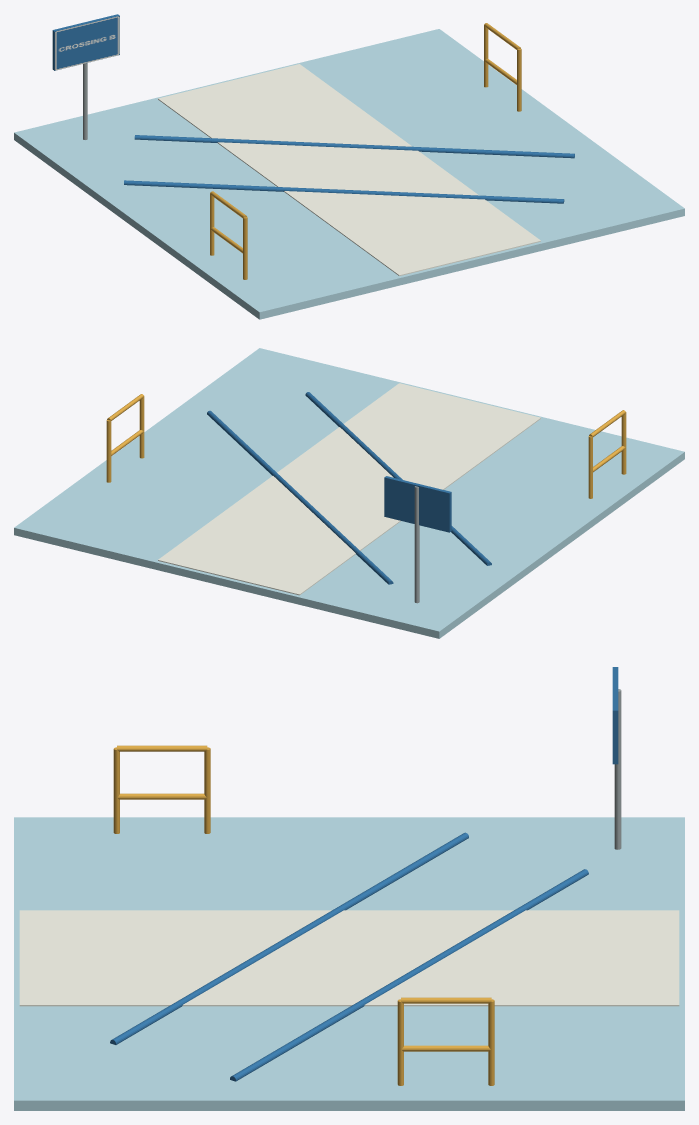
Rendered from scendance-plan-course-crossroad-b.glb.
3 renders of one model, top to bottom at view 1: azimuth 30°, elevation 25°; view 2: azimuth 150°, elevation 25°; view 3: azimuth 270°, elevation 25°, orthographic. The views are drawn at different scales.
Size of the model in its own units: 6 by 1.67 by 6.
7 materials, 1 textured.
